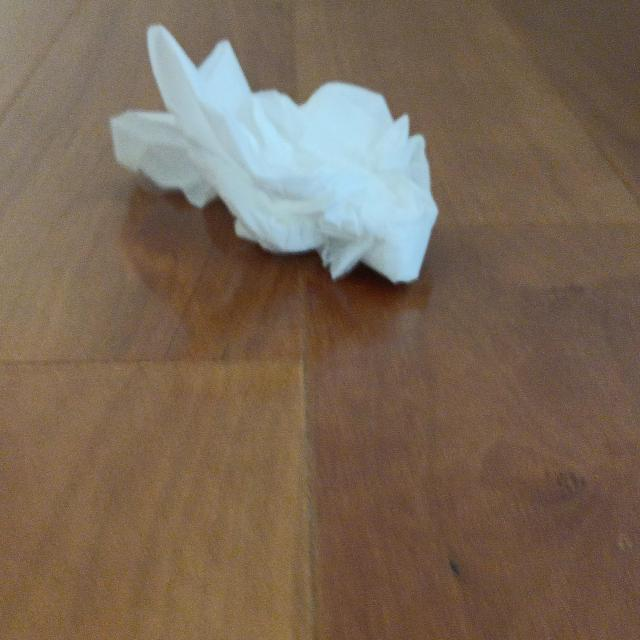Paper: (104, 24, 451, 285)
